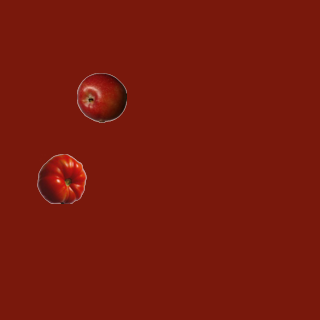Apple Braeburn: (76, 72, 126, 122)
Tomato 3: (36, 153, 86, 203)
